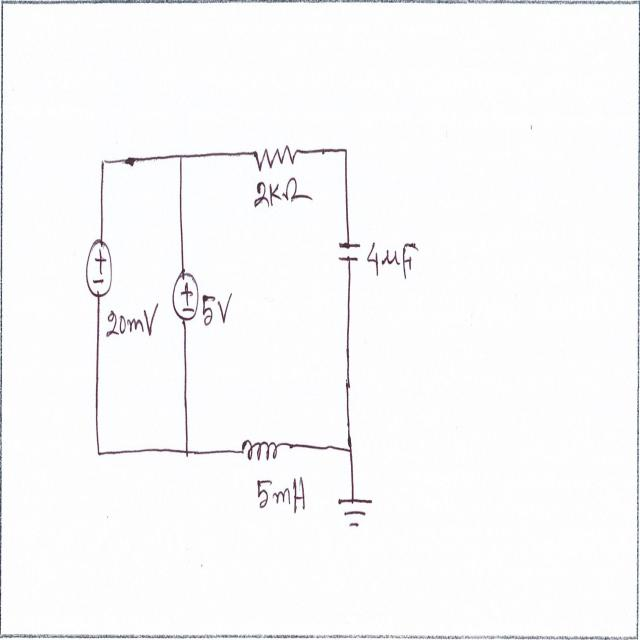capacitor: (336, 235, 362, 266)
ground: (338, 490, 374, 535)
inductor: (241, 434, 284, 464)
resistor: (253, 144, 297, 174)
voltage_source: (85, 238, 117, 297), (168, 271, 198, 322)
